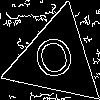O: (31, 34, 80, 90)
